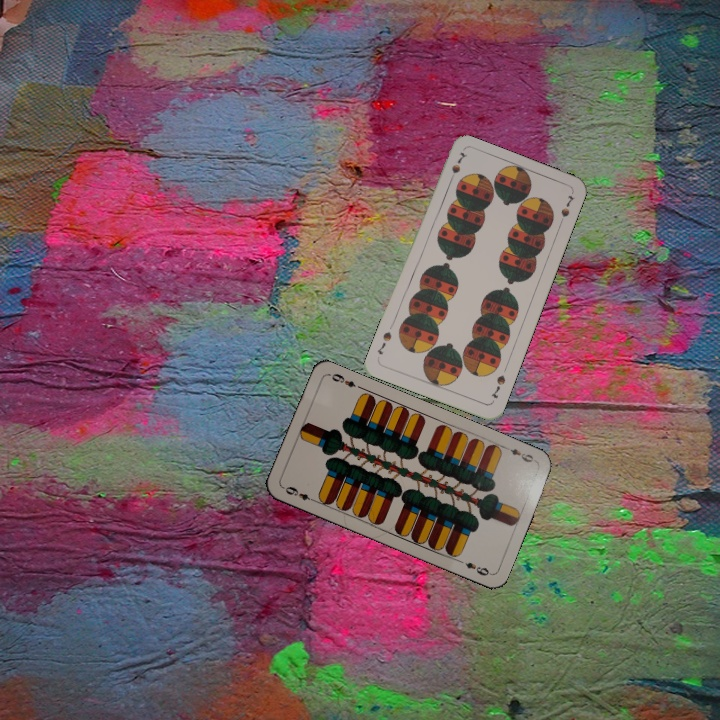E9: (279, 482, 318, 505), (500, 442, 538, 465)
S7: (444, 148, 467, 187), (487, 371, 508, 401)
